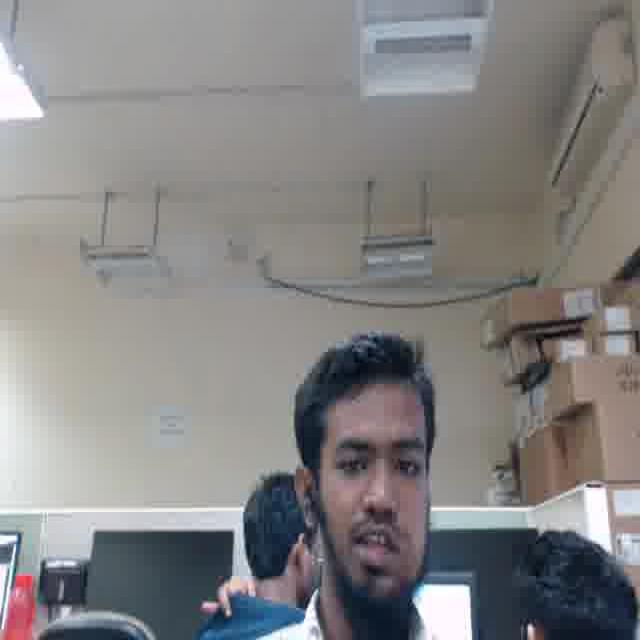Engaged: (317, 390, 434, 594)
